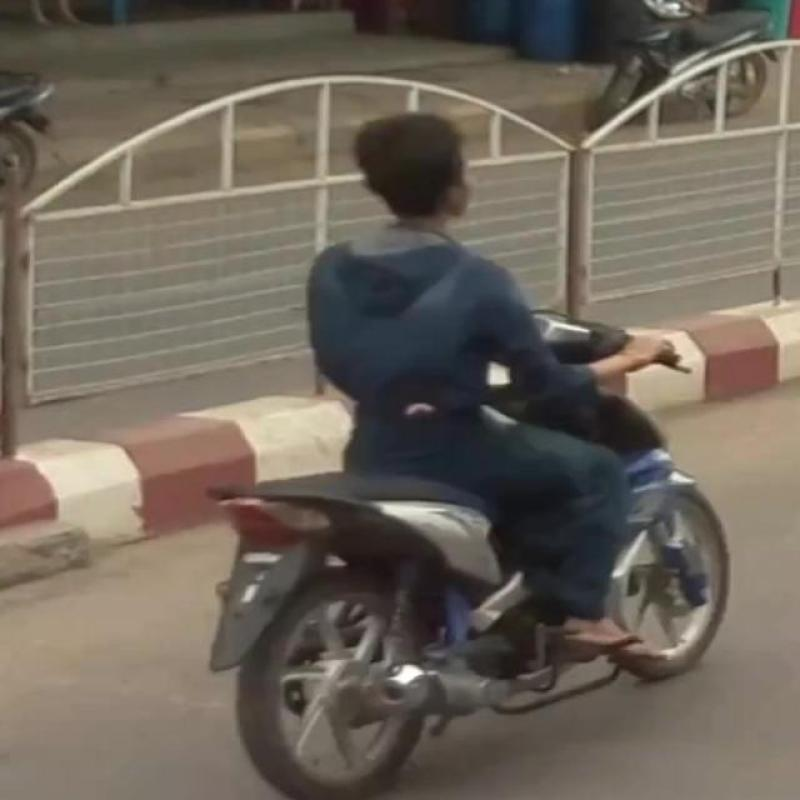nohelmet: (328, 102, 511, 228)
